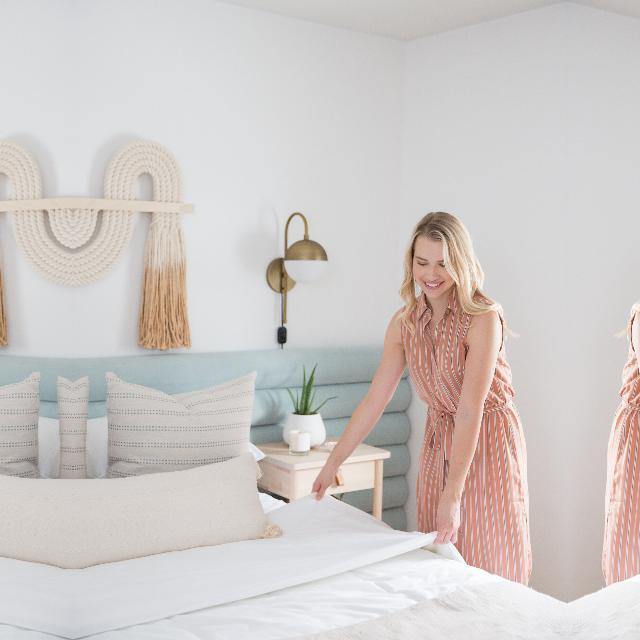pillow: (73, 454, 284, 565), (102, 368, 261, 474), (0, 468, 71, 565), (0, 371, 42, 474)
